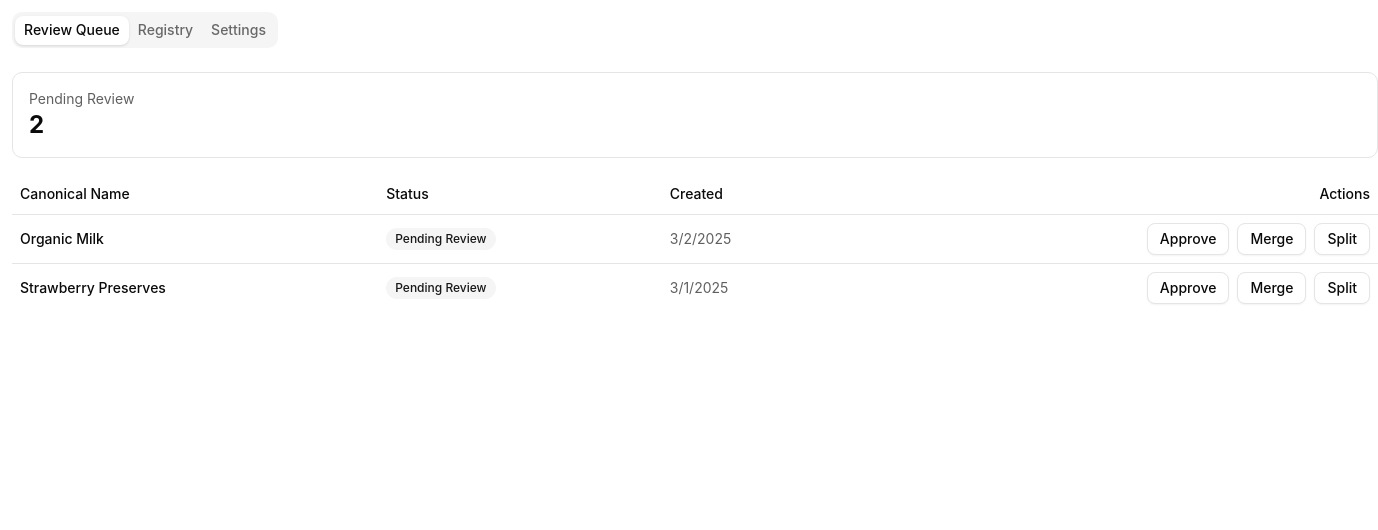
NormalizedDescriptions settings tab › renders settings tab for admins and hydrates from live settings
This screenshot has width=1378, height=530.
Click the tab "Settings" at {"x": 239, "y": 30}, box [202, 16, 275, 44]
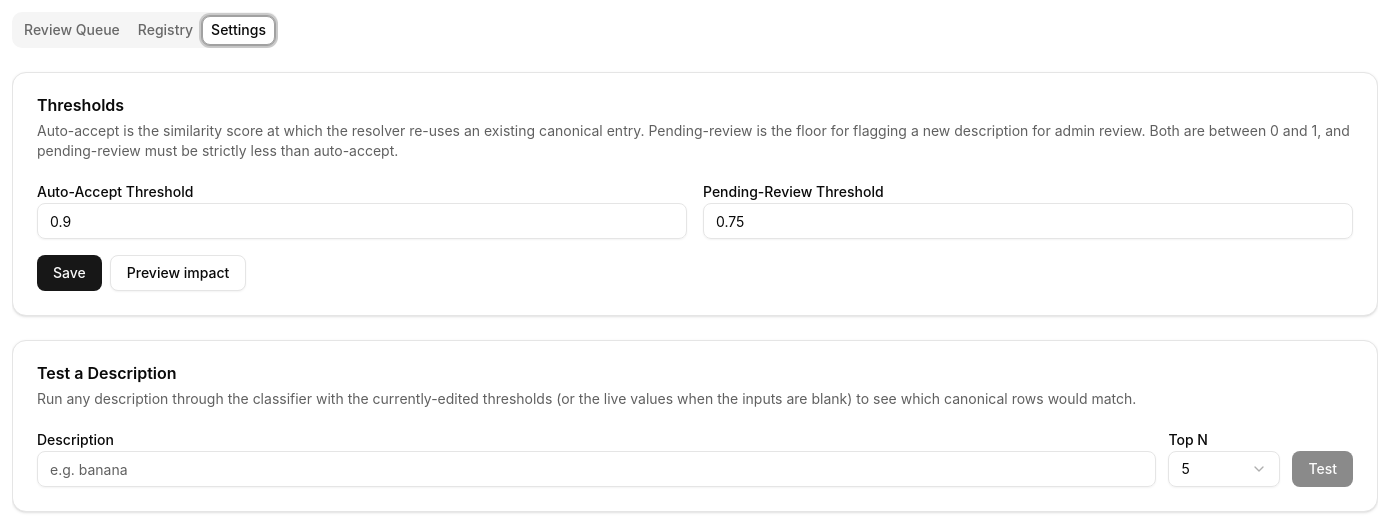
Check: the number field labelled "Auto-Accept Threshold" holds "0.9", box [37, 203, 687, 239]
Check: the number field labelled "Pending-Review Threshold" holds "0.75", box [703, 203, 1353, 239]
